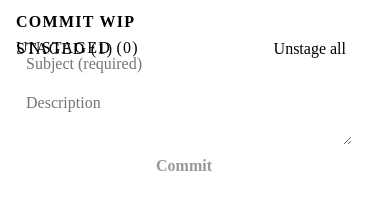
Test: CommitComposer › shows 'Committing…' while the commit is in flight (button label)
Type "Subject" into the field with placeholder "Subject (required)". click: (164, 64)
box: [16,49,312,79]
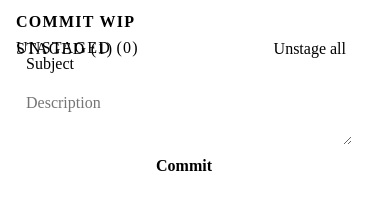
Click the button "Commit". click: click(184, 166)
box: [16,151,352,181]
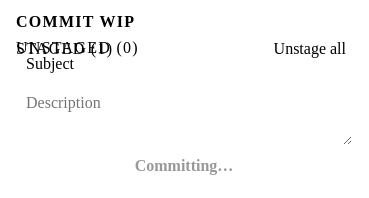
Check: the button "Committing…" is disabled, box [16,151,352,181]
